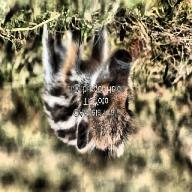boar: (40, 21, 134, 157)
